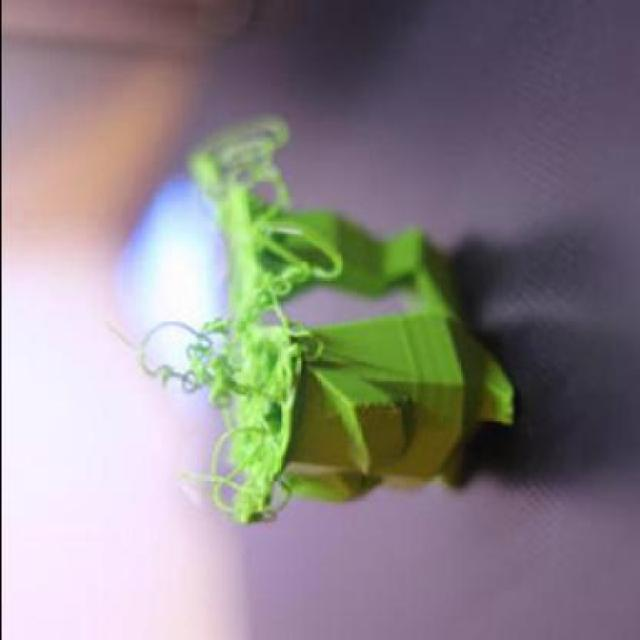Spaghetti: (100, 310, 328, 536)
